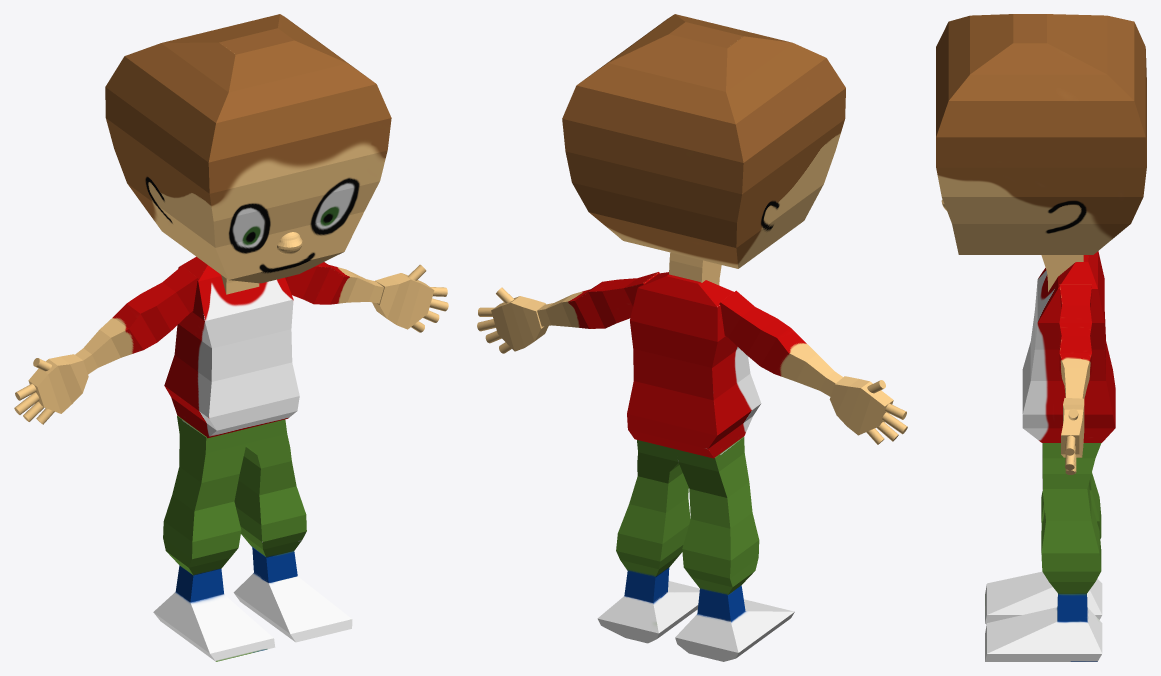
The model's file is PJBoy.fbx.
3 views of the same model, side by side, from view 1: azimuth 30°, elevation 25°; view 2: azimuth 150°, elevation 25°; view 3: azimuth 270°, elevation 25° (orthographic). The views are drawn at different scales.
Parts seen in each view (by area): view 1: Body, RightLeg, LeftLeg, RightArm, LeftArm; view 2: Body, RightLeg, LeftLeg, RightArm, LeftArm; view 3: Body, LeftLeg, LeftArm, RightLeg.
Boxes of the visible parts, <box> form: Body: <box>105,14,391,438</box>; RightLeg: <box>153,415,275,661</box>; LeftLeg: <box>233,419,352,642</box>; RightArm: <box>14,266,198,424</box>; LeftArm: <box>285,262,448,332</box>; Body: <box>562,14,845,458</box>; RightLeg: <box>675,436,794,661</box>; LeftLeg: <box>597,440,699,643</box>; RightArm: <box>719,290,907,444</box>; LeftArm: <box>477,272,659,353</box>; Body: <box>936,14,1146,442</box>; LeftLeg: <box>985,443,1102,661</box>; LeftArm: <box>1059,284,1091,474</box>; RightLeg: <box>985,443,1102,623</box>.
Size of the model in its own units: 244 by 323 by 102.
9 materials, 7 textured.
